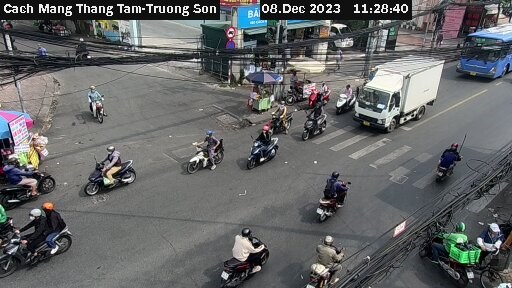bus: (457, 25, 512, 78)
motorbike: (212, 230, 283, 284), (13, 209, 79, 261), (418, 217, 470, 282), (1, 155, 58, 211), (176, 131, 237, 180), (300, 234, 353, 287), (297, 171, 353, 220), (79, 154, 136, 199), (240, 129, 290, 176), (69, 36, 111, 76), (427, 139, 467, 180), (79, 88, 120, 126), (299, 103, 334, 143), (268, 104, 300, 137), (303, 80, 335, 111), (330, 84, 355, 116)
truck: (356, 55, 445, 128)
